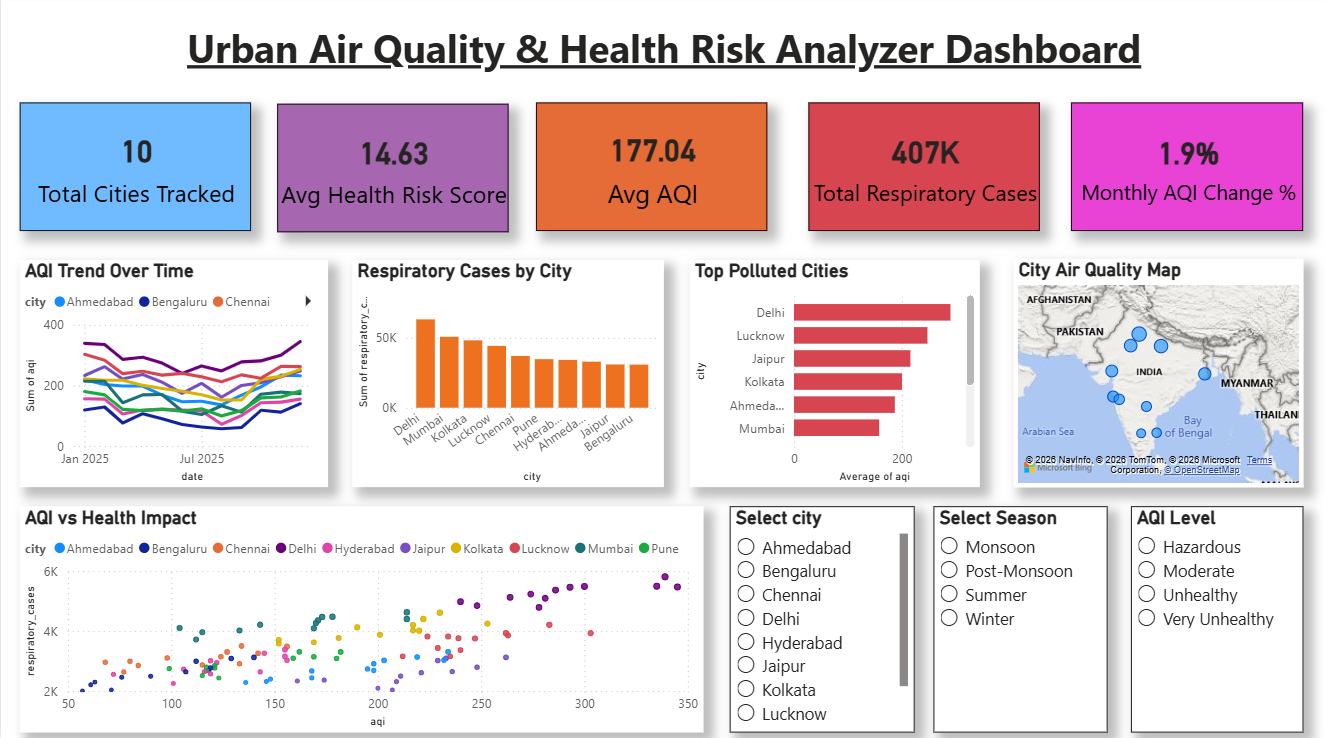

This screenshot's page, from the dashboard's own definition file:
{"tool":"powerbi","page":{"name":"dashboard","canvas":[1280,720],"ordinal":0},"visuals":[{"type":"card","fields":{"Values":["aqi_health_final.Total Cities"]},"box":[18.1,103.8,223.2,124.3],"z":0},{"type":"card","fields":{"Values":["aqi_health_final.Avg AQI"]},"box":[516.4,103.8,223.2,124.3],"z":1000},{"type":"card","fields":{"Values":["aqi_health_final.Total Cases"]},"box":[779.4,103.8,223.2,124.3],"z":2000},{"type":"card","fields":{"Values":["aqi_health_final.Avg Risk Score"]},"box":[266.6,105,223.2,124.3],"z":3000},{"type":"lineChart","title":"AQI Trend Over Time","fields":{"Category":["aqi_health_final.date.Variation.Date Hierarchy.Year"],"Series":["aqi_health_final.city"],"Y":["Sum(aqi_health_final.aqi)"]},"box":[18.1,255.8,298,219.6],"z":4000},{"type":"clusteredBarChart","title":"Top Polluted Cities","fields":{"Category":["aqi_health_final.city"],"Y":["Avg(aqi_health_final.aqi)"]},"box":[664.7,255.8,279.9,219.6],"z":5000},{"type":"clusteredColumnChart","title":"Respiratory Cases by City","fields":{"Category":["aqi_health_final.city"],"Y":["Sum(aqi_health_final.respiratory_cases)"]},"box":[339,255.8,300.4,219.6],"z":6000},{"type":"scatterChart","title":"AQI vs Health Impact","fields":{"X":["aqi_health_final.aqi"],"Y":["aqi_health_final.respiratory_cases"],"Size":["Sum(aqi_health_final.health_risk_score)"],"Series":["aqi_health_final.city"]},"box":[18.1,493.4,659.9,218.4],"z":7000},{"type":"map","title":"City Air Quality Map","fields":{"Category":["aqi_health_final.city"],"Size":["Avg(aqi_health_final.aqi)"]},"box":[977.2,254.6,279.9,220.8],"z":8000},{"type":"listSlicer","fields":{"Values":["aqi_health_final.city"]},"box":[703.4,493.4,178.6,218.4],"z":9000},{"type":"listSlicer","fields":{"Values":["aqi_health_final.season"]},"box":[900,493.4,167.7,218.4],"z":10000},{"type":"listSlicer","fields":{"Values":["aqi_health_final.aqi_category"]},"box":[1090.6,493.4,166.5,218.4],"z":11000},{"type":"textbox","box":[0,20.5,1280,63.9],"z":12000},{"type":"card","fields":{"Values":["aqi_health_final.AQI Change %"]},"box":[1032.7,103.8,224.4,124.3],"z":13000}]}

Visuals, with their boxes in screenshot pixels (x1, y1, x2, y2), scaled from the page's 1280x720 canvas onto the 1325x738 screenshot:
card - aqi_health_final.Total Cities: (19, 106, 250, 234)
card - aqi_health_final.Avg AQI: (535, 106, 766, 234)
card - aqi_health_final.Total Cases: (807, 106, 1038, 234)
card - aqi_health_final.Avg Risk Score: (276, 108, 507, 235)
"AQI Trend Over Time" lineChart: (19, 262, 327, 487)
"Top Polluted Cities" clusteredBarChart: (688, 262, 978, 487)
"Respiratory Cases by City" clusteredColumnChart: (351, 262, 662, 487)
"AQI vs Health Impact" scatterChart: (19, 506, 702, 730)
"City Air Quality Map" map: (1012, 261, 1301, 487)
listSlicer - aqi_health_final.city: (728, 506, 913, 730)
listSlicer - aqi_health_final.season: (932, 506, 1105, 730)
listSlicer - aqi_health_final.aqi_category: (1129, 506, 1301, 730)
textbox: (0, 21, 1324, 87)
card - aqi_health_final.AQI Change %: (1069, 106, 1301, 234)
